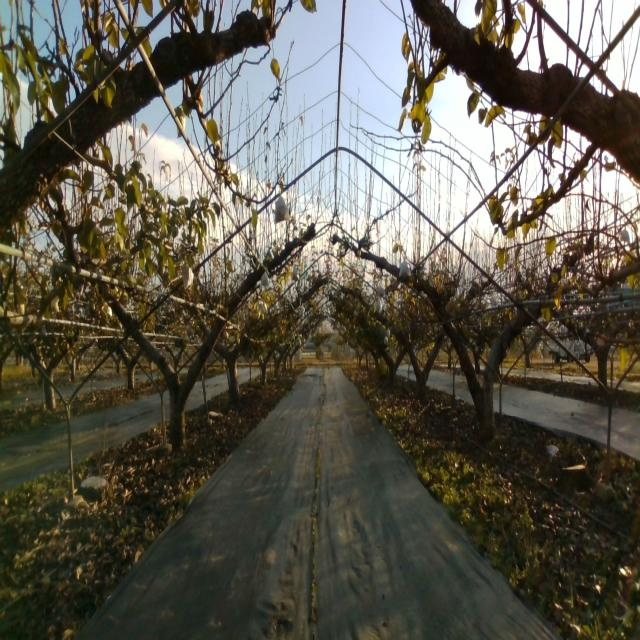pearbags: (274, 192, 291, 224), (180, 262, 195, 290), (398, 256, 411, 280)
